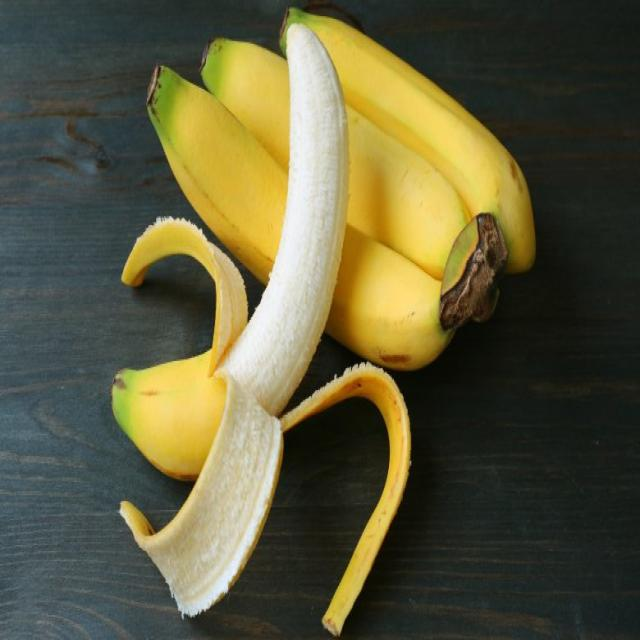banana_peel: (91, 8, 356, 487)
